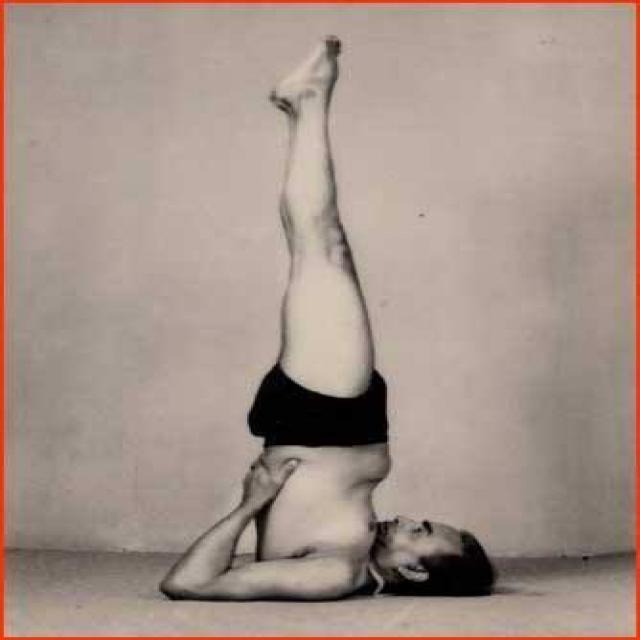yoga-pose shoulderstand: (156, 30, 504, 607)
